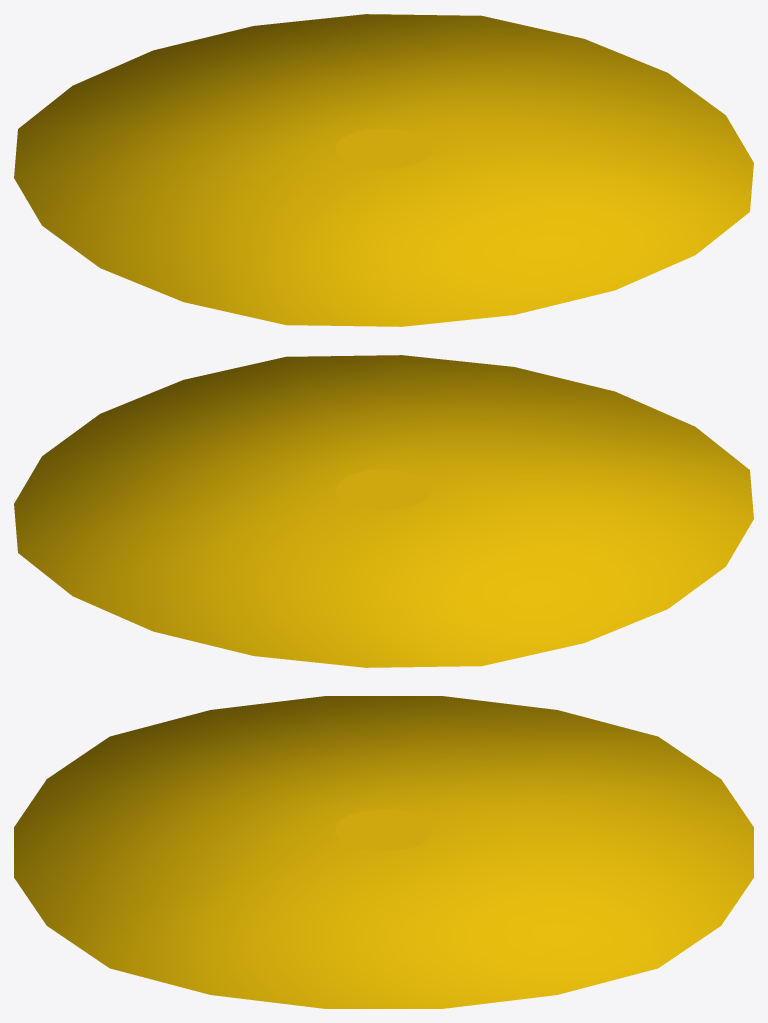
The model's file is cone-yellow.gltf.
The picture shows the model from 3 angles, top to bottom: view 1: azimuth 30°, elevation 25°; view 2: azimuth 150°, elevation 25°; view 3: azimuth 270°, elevation 25°; orthographic projection. The views are drawn at different scales.
Visible parts, largest first — view 1: cone-yellow; view 2: cone-yellow; view 3: cone-yellow.
Part boxes in pixels (x1,y1,x2,y2): cone-yellow: (14,14,753,326); cone-yellow: (14,355,753,667); cone-yellow: (14,696,753,1008).
Size of the model in its own units: 1.46 by 0.0484 by 1.46.
